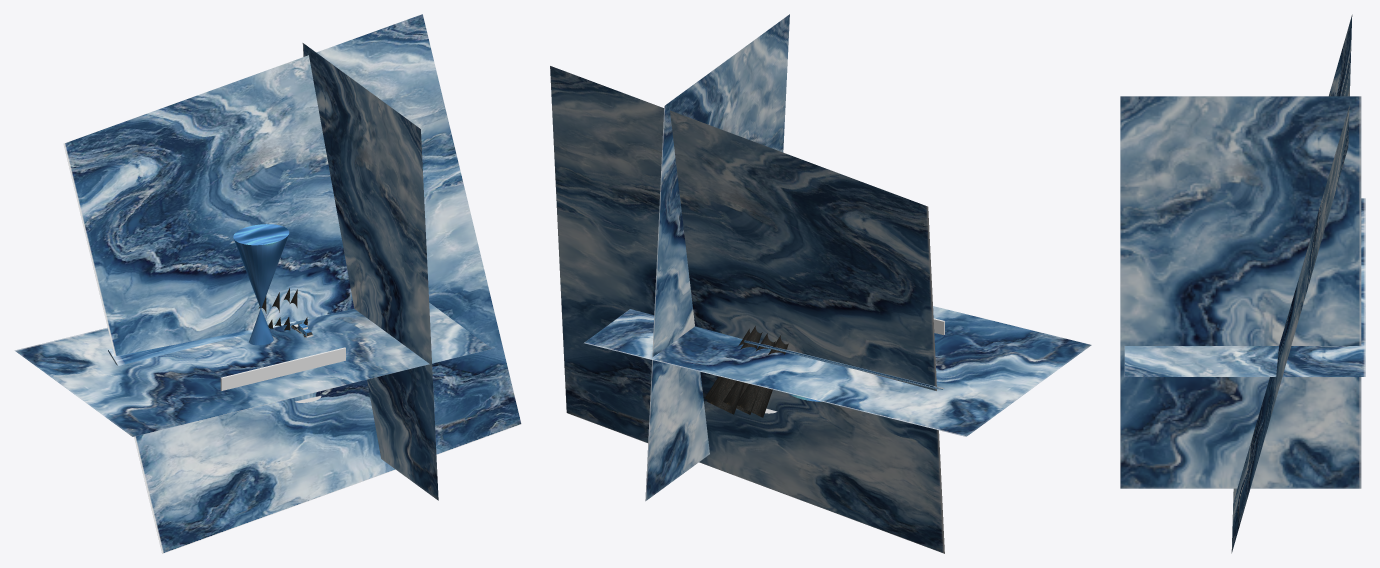
File:  3d model truck.glb
3 renders of one model, left to right at view 1: azimuth 30°, elevation 25°; view 2: azimuth 150°, elevation 25°; view 3: azimuth 270°, elevation 25°, orthographic. The views are drawn at different scales.
Visible parts, largest first — view 1: Plane.002; view 2: Plane.002; view 3: Plane.002.
Part boxes in pixels (left/top/right/bottom): Plane.002: left=14, top=14, right=521, bottom=553; Plane.002: left=550, top=14, right=1091, bottom=553; Plane.002: left=1120, top=14, right=1365, bottom=553.
Bounding box in the file's own units: 504 × 461 × 238.
37 materials, 30 textured.
